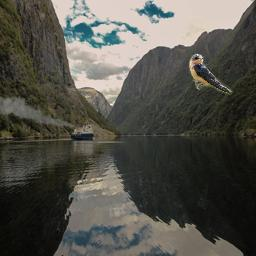Swallow: (189, 52, 234, 95)
